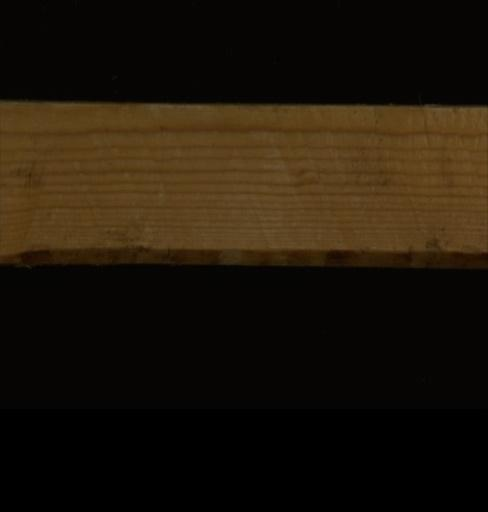wave: (0, 241, 485, 269)
